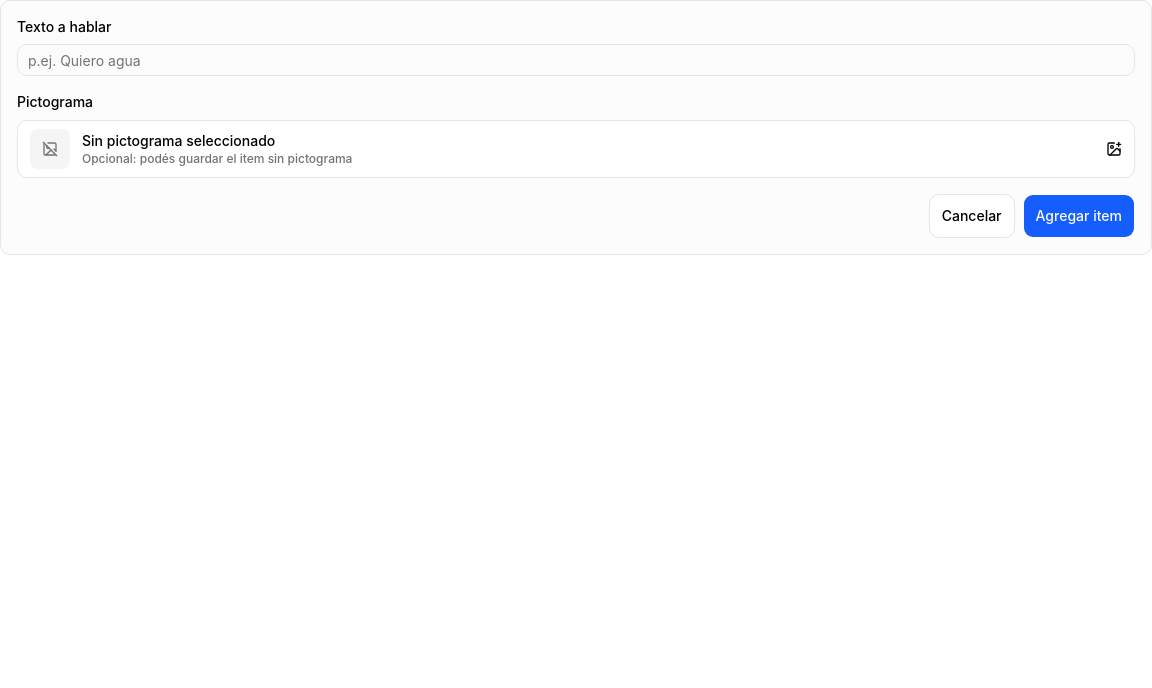
FormItemInline — submit lock mientras el panel está abierto (Commit 1, tarea 4.8) › el botón de submit queda disabled con aria-describedby a un motivo visible mientras el panel está abierto
Expected: the button "Agregar item" is enabled, [1022,194,1135,238]
Click the button "Sin pictograma seleccionado" at coordinates (50, 148), box [17,120,1135,178]
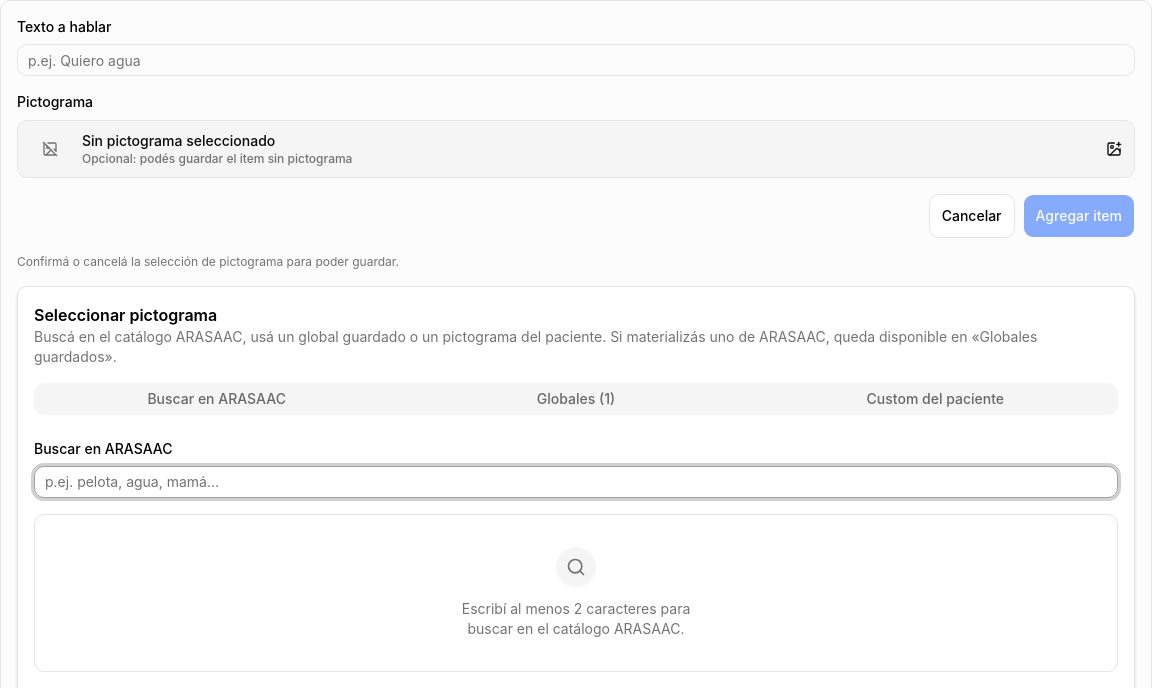
Expected: the button "Agregar item" is disabled, [1022,194,1135,238]
Expected: the text "Confirmá o cancelá la selección de pictograma" is shown, [17,254,399,268]
